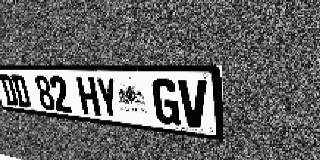2: (48, 76, 72, 113)
8: (34, 75, 56, 111)
D: (11, 75, 32, 108), (0, 74, 19, 107)
G: (151, 78, 181, 126)
H: (76, 76, 101, 116)
V: (178, 79, 209, 129)
Y: (95, 77, 121, 119)
